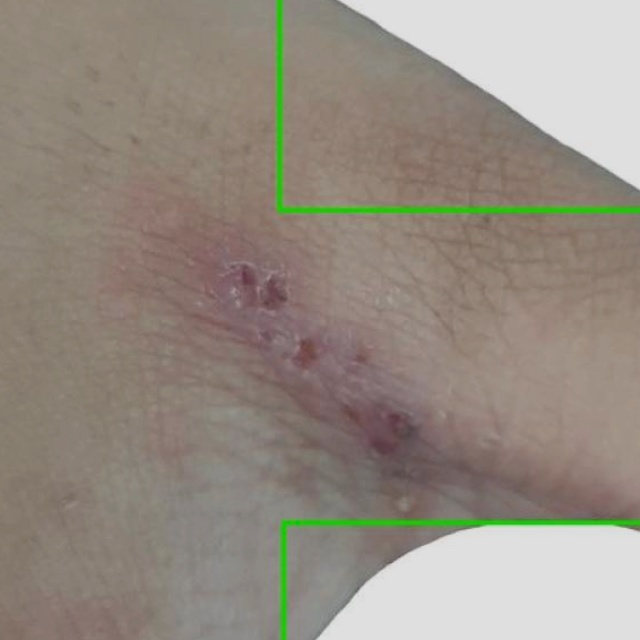Scabies: (279, 0, 639, 210), (283, 522, 639, 639)
